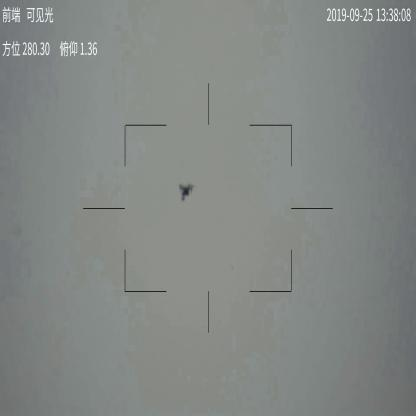uav: (177, 178, 195, 203)
